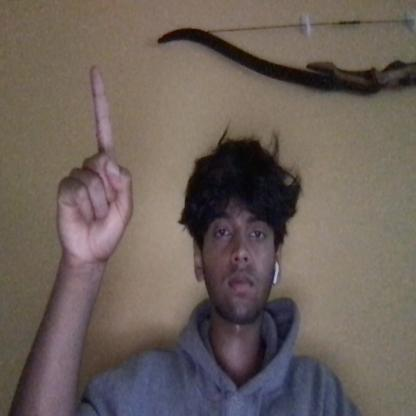finger_point: (69, 48, 115, 100)
